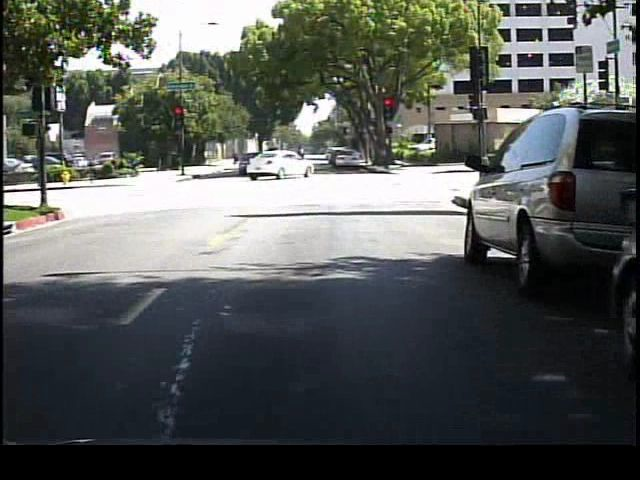person: (294, 142, 310, 176)
